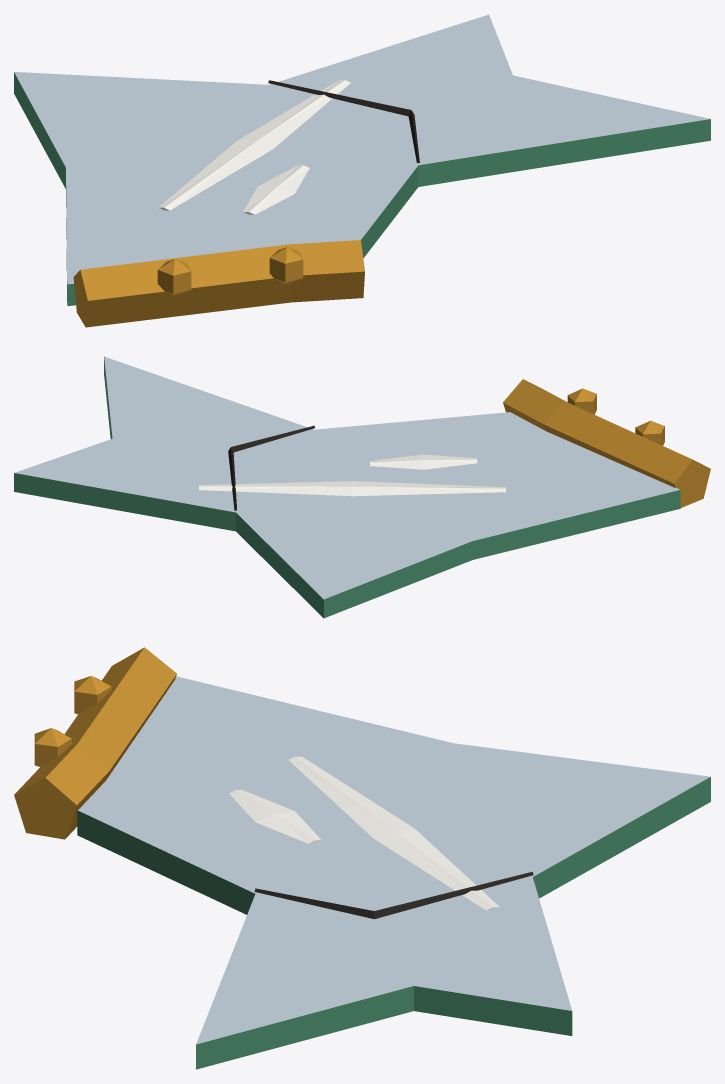
File: MirrorShard.fbx
3 renders of one model, top to bottom at view 1: azimuth 30°, elevation 25°; view 2: azimuth 150°, elevation 25°; view 3: azimuth 270°, elevation 25°, orthographic. The views are drawn at different scales.
Visible parts, largest first — view 1: Shard, Lines; view 2: Shard, Lines; view 3: Shard, Lines.
Boxes of the visible parts, x1,y1,x2,y2 form: Shard: [14, 14, 710, 327]; Lines: [268, 80, 419, 162]; Shard: [14, 356, 710, 618]; Lines: [228, 425, 314, 510]; Shard: [14, 647, 710, 1069]; Lines: [254, 871, 533, 919].
Size of the model in its own units: 0.2224 by 0.02 by 0.176.
